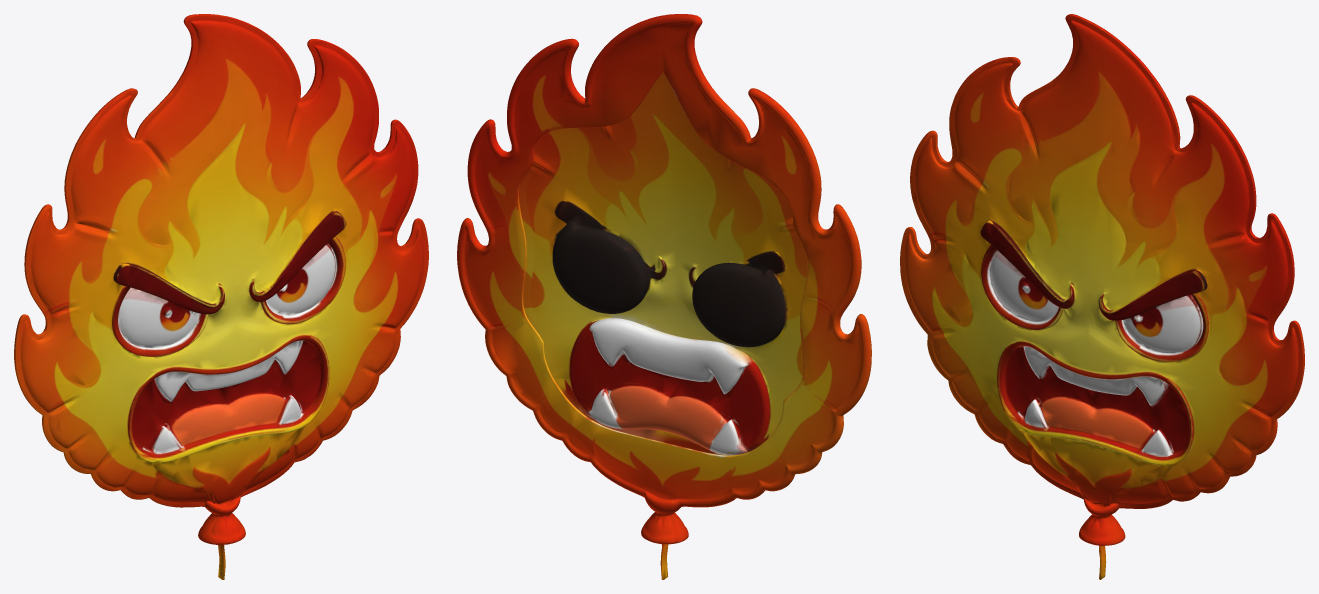
3 views of the same model, side by side, from view 1: azimuth 30°, elevation 25°; view 2: azimuth 150°, elevation 25°; view 3: azimuth 330°, elevation 25° (orthographic). The views are drawn at different scales.
Parts seen in each view (by area): view 1: node_0; view 2: node_0; view 3: node_0.
Boxes of the visible parts, left/top/right/bottom form: node_0: left=14, top=14, right=428, bottom=579; node_0: left=457, top=14, right=871, bottom=579; node_0: left=900, top=14, right=1304, bottom=579.
Bounding box in the file's own units: 0.9053 × 1.19 × 0.1083.
Materials: 1 (1 with a texture image).
